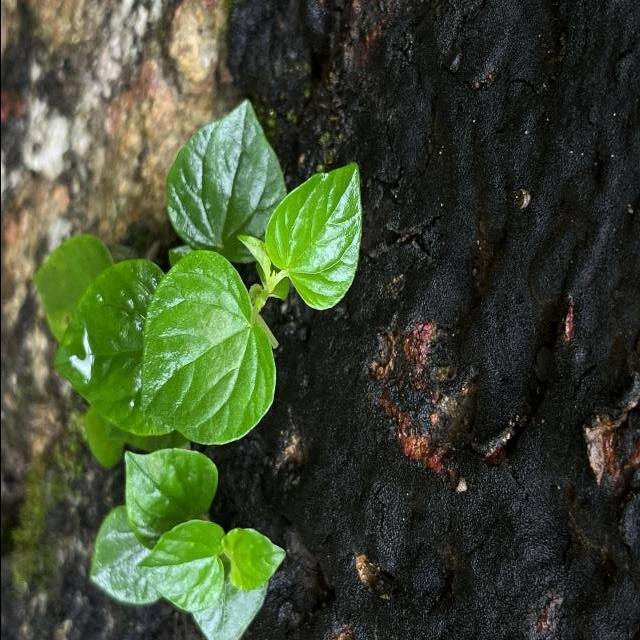Peperomia pellucida: (137, 246, 277, 446), (261, 160, 363, 315)
